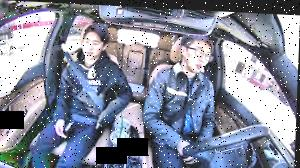seatbelt: (145, 56, 218, 140), (56, 32, 110, 128), (140, 44, 154, 88)
